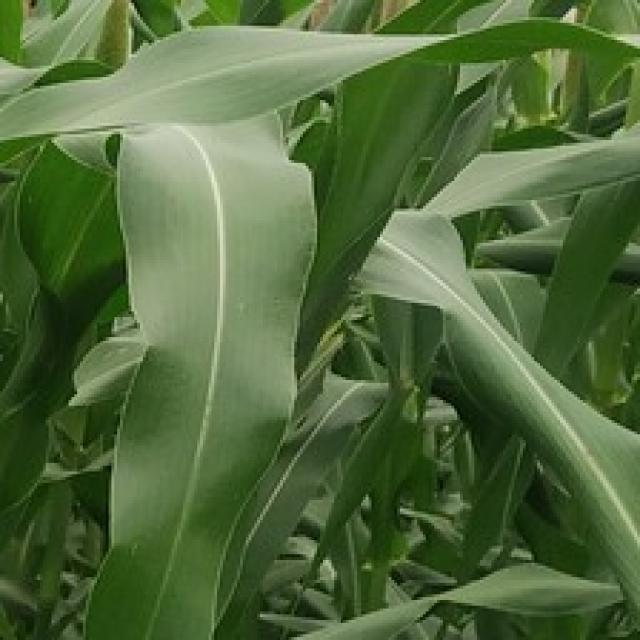Corn: (0, 0, 637, 637), (77, 112, 317, 637), (352, 203, 637, 637), (0, 11, 637, 163)
